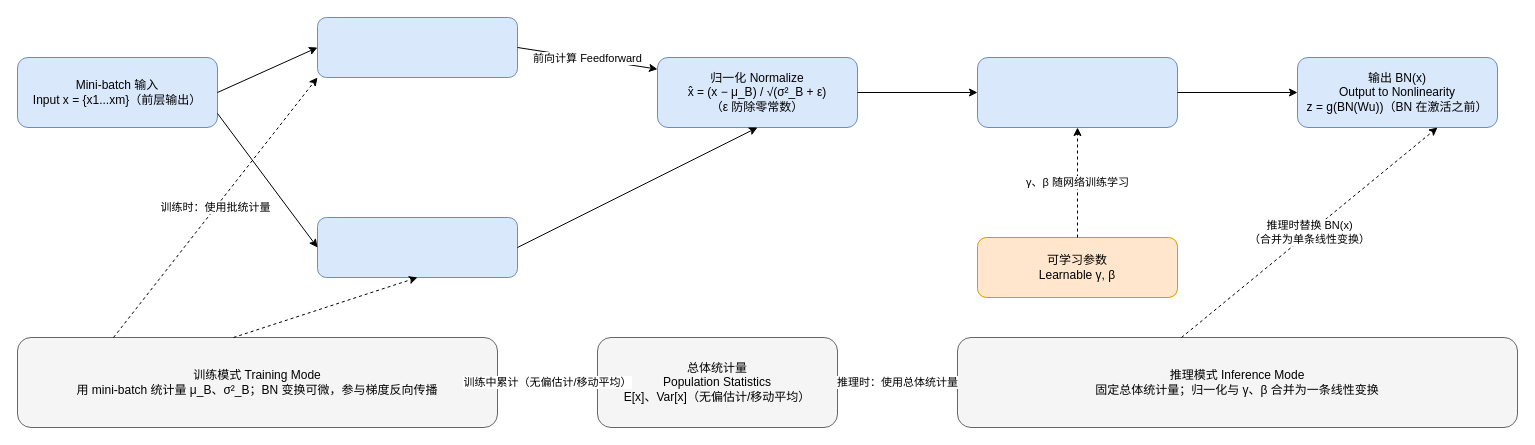
Some shapes in this 1535 by 445 pixel diagram are drawn without their labels. The shapes that lost their labels are listed below. From the top down, each one's centre as x and y in pixels, then its label:
At (417,47): "批均值 μ_B Mini-batch Mean μ_B = (1/m)Σxi".
At (1077,92): "缩放与平移 Scale & Shift y = γ·x̂ + β".
At (417,247): "批方差 σ²_B Mini-batch Variance σ²_B = (1/m)Σ(xi−μ_B)²".
